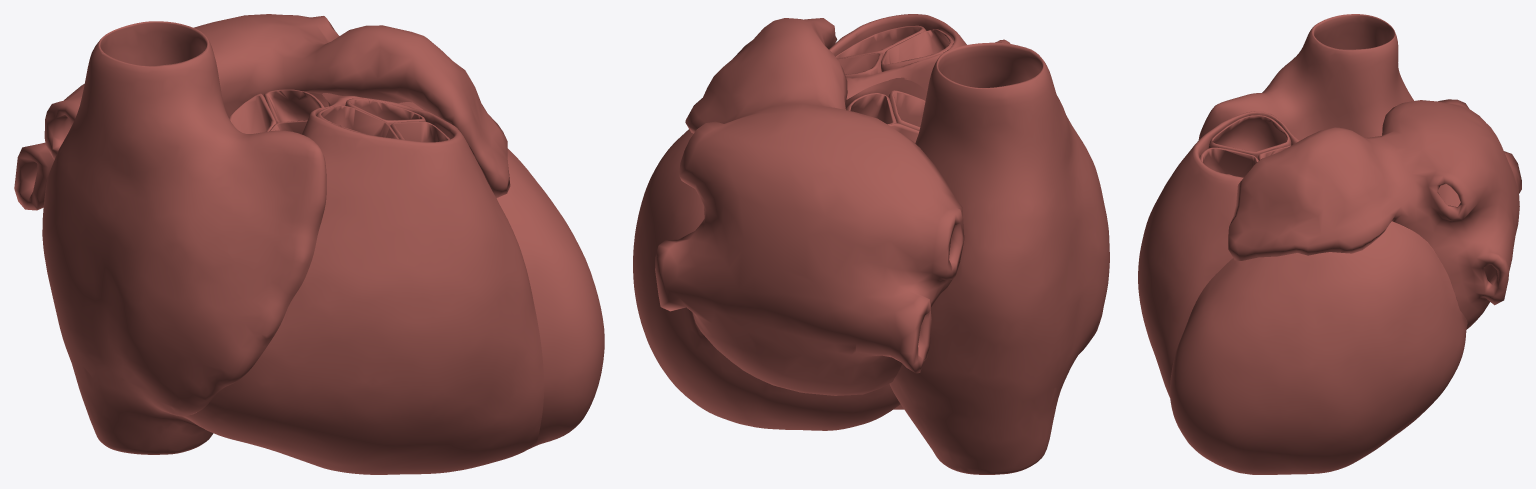
File: thorax-heart-mobile.glb
3 views of the same model, side by side, from view 1: azimuth 30°, elevation 25°; view 2: azimuth 150°, elevation 25°; view 3: azimuth 270°, elevation 25° (orthographic). The views are drawn at different scales.
Parts seen in each view (by area): view 1: organ.right-atrium, organ.right-ventricle, organ.left-atrium, organ.left-ventricle, organ.left-coronary-leaflet, organ.right-semilunar-leaflet-of-pulmonary-valve, organ.non-coronary-leaflet, organ.left-semilunar-leaflet-of-pulmonary-valve, organ.anterior-semilunar-leaflet-of-pulmonary-valve; view 2: organ.left-atrium, organ.right-atrium, organ.left-ventricle, organ.right-ventricle, organ.right-semilunar-leaflet-of-pulmonary-valve, organ.anterior-semilunar-leaflet-of-pulmonary-valve, organ.right-coronary-leaflet, organ.left-coronary-leaflet, organ.left-semilunar-leaflet-of-pulmonary-valve; view 3: organ.left-ventricle, organ.left-atrium, organ.right-atrium, organ.right-ventricle, organ.right-semilunar-leaflet-of-pulmonary-valve, organ.anterior-semilunar-leaflet-of-pulmonary-valve.
Boxes of the visible parts, bbox=[...] form: organ.right-atrium: bbox=[42, 21, 326, 454]; organ.right-ventricle: bbox=[184, 93, 544, 474]; organ.left-atrium: bbox=[14, 14, 510, 210]; organ.left-ventricle: bbox=[311, 94, 604, 446]; organ.left-coronary-leaflet: bbox=[264, 89, 324, 123]; organ.right-semilunar-leaflet-of-pulmonary-valve: bbox=[316, 105, 398, 138]; organ.non-coronary-leaflet: bbox=[229, 93, 276, 133]; organ.left-semilunar-leaflet-of-pulmonary-valve: bbox=[345, 98, 425, 125]; organ.anterior-semilunar-leaflet-of-pulmonary-valve: bbox=[390, 121, 449, 142]; organ.left-atrium: bbox=[655, 18, 964, 395]; organ.right-atrium: bbox=[889, 39, 1109, 474]; organ.left-ventricle: bbox=[633, 77, 927, 430]; organ.right-ventricle: bbox=[829, 14, 966, 409]; organ.right-semilunar-leaflet-of-pulmonary-valve: bbox=[881, 29, 953, 71]; organ.anterior-semilunar-leaflet-of-pulmonary-valve: bbox=[835, 25, 926, 59]; organ.right-coronary-leaflet: bbox=[888, 90, 925, 130]; organ.left-coronary-leaflet: bbox=[846, 93, 896, 124]; organ.left-semilunar-leaflet-of-pulmonary-valve: bbox=[837, 52, 883, 77]; organ.left-ventricle: bbox=[1170, 221, 1467, 474]; organ.left-atrium: bbox=[1228, 99, 1521, 329]; organ.right-atrium: bbox=[1198, 14, 1413, 221]; organ.right-ventricle: bbox=[1138, 111, 1299, 397]; organ.right-semilunar-leaflet-of-pulmonary-valve: bbox=[1209, 115, 1291, 159]; organ.anterior-semilunar-leaflet-of-pulmonary-valve: bbox=[1200, 147, 1258, 177].
Size of the model in its own units: 0.1191 by 0.108 by 0.1129.
